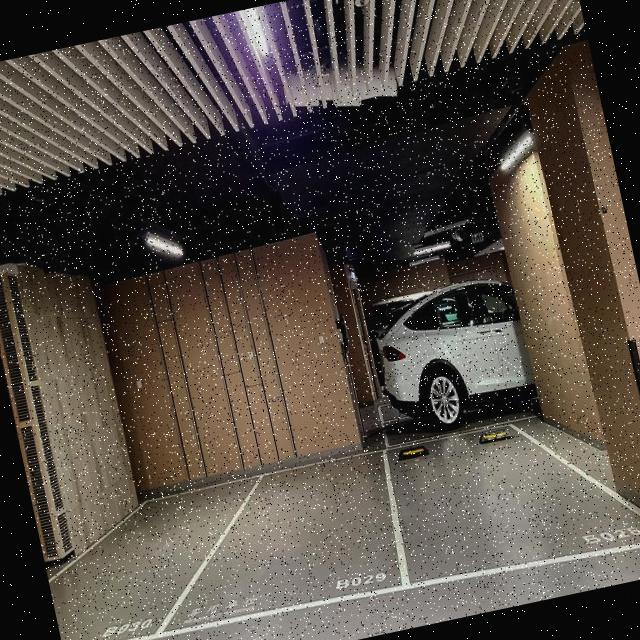empty: (386, 396, 640, 593), (35, 479, 247, 640), (230, 444, 406, 622)
